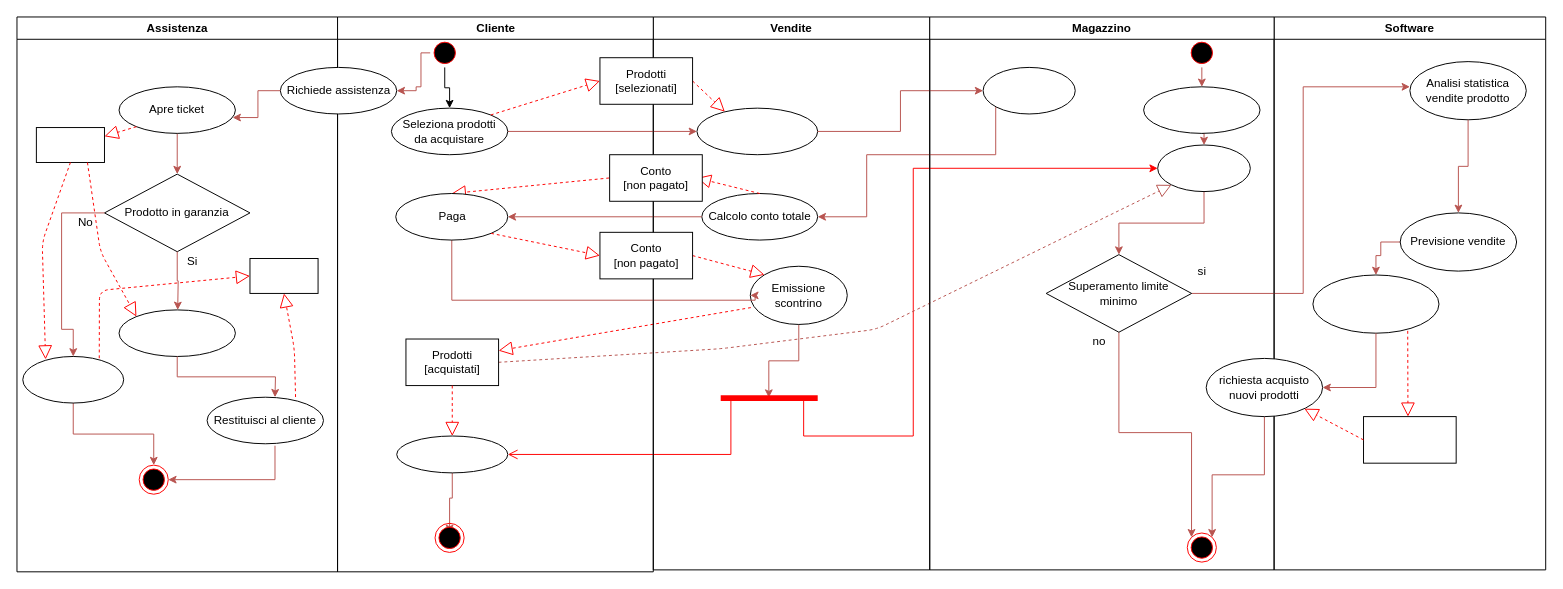
Image size: 1563x589. Some labels were removed from this diagram. The shapes that lost their labels are listed below. From the top down, each one's centre as x and y in pixels, then its label:
At point (1028, 90): "Ottieni prezzo prodotti".
At point (1201, 109): "Inserimento prodotto".
At point (69, 144): "Ticket [Aperto]".
At point (757, 131): "scannerizzazione barcode prodotti".
At point (1203, 168): "aggiornamento quantità".
At point (283, 275): "Ticket [Chiuso]".
At point (1375, 303): "Calcolo quantità prodotti da acquistare".
At point (176, 332): "Manda in assistenza".
At point (73, 379): "Chiudi ticket".
At point (452, 454): "Prende prodotti".
At point (1409, 439): "Proposta di acquisto".
